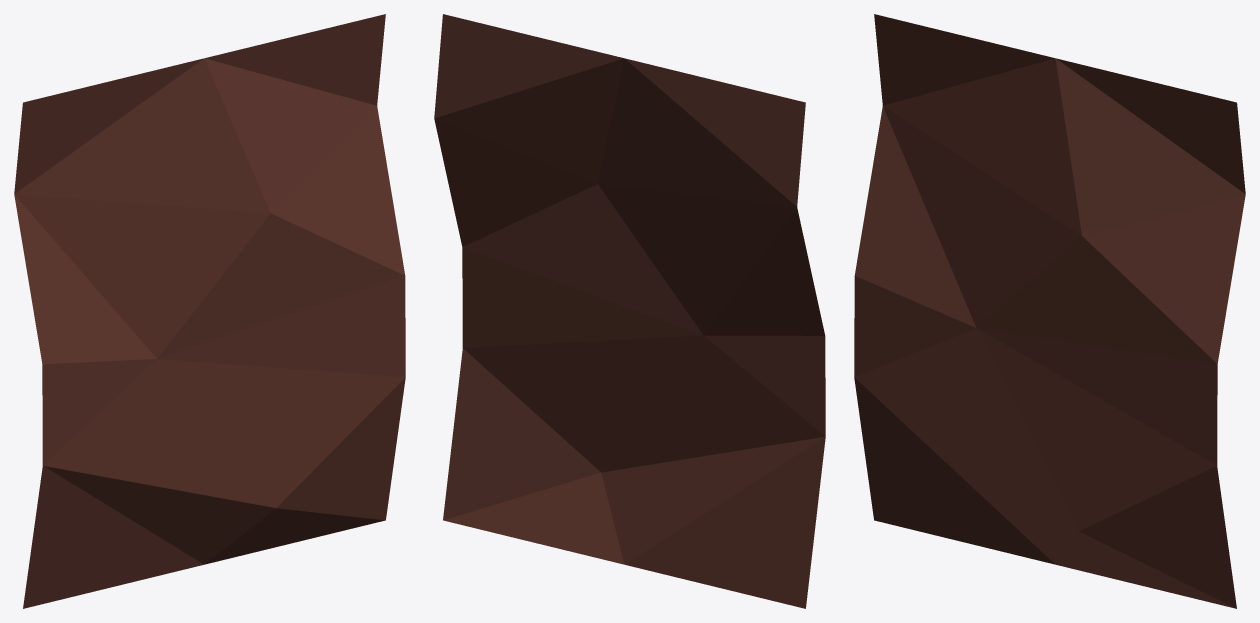
File: Block_MID_MID.fbx
3 renders of one model, left to right at view 1: azimuth 30°, elevation 25°; view 2: azimuth 150°, elevation 25°; view 3: azimuth 330°, elevation 25°, orthographic.
Visible parts, largest first — view 1: Block_MID_MID; view 2: Block_MID_MID; view 3: Block_MID_MID.
Part boxes in pixels (x1,y1,x2,y2): Block_MID_MID: (14, 14, 405, 608); Block_MID_MID: (434, 14, 825, 608); Block_MID_MID: (854, 14, 1245, 608).
Size of the model in its own units: 6 by 8 by 0.9463.
